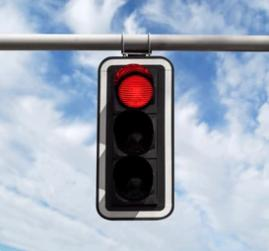red_light: (96, 56, 174, 220)
